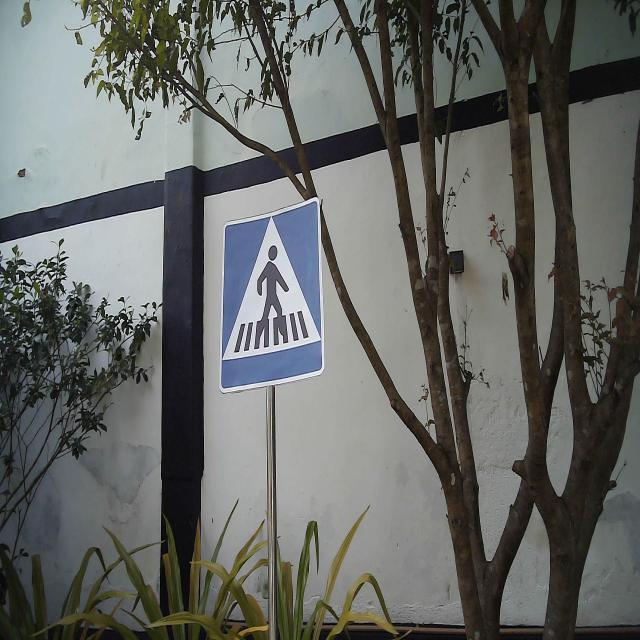crosswalk_sign: (218, 196, 326, 396)
